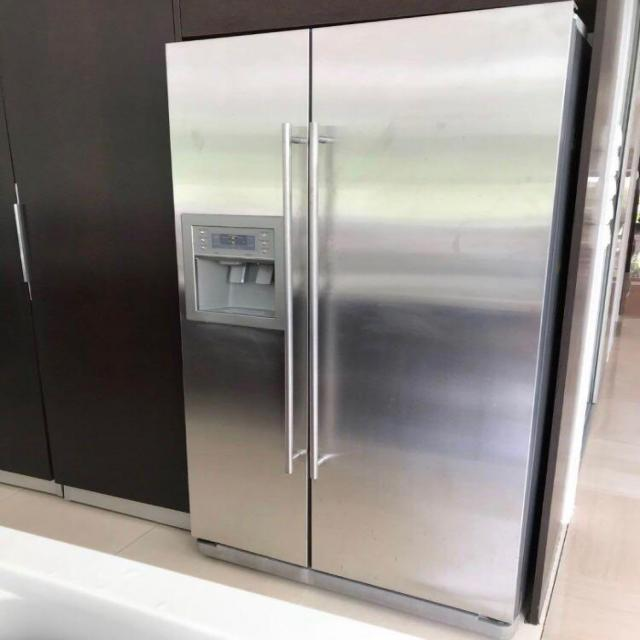refrigerator: (164, 0, 579, 630)
